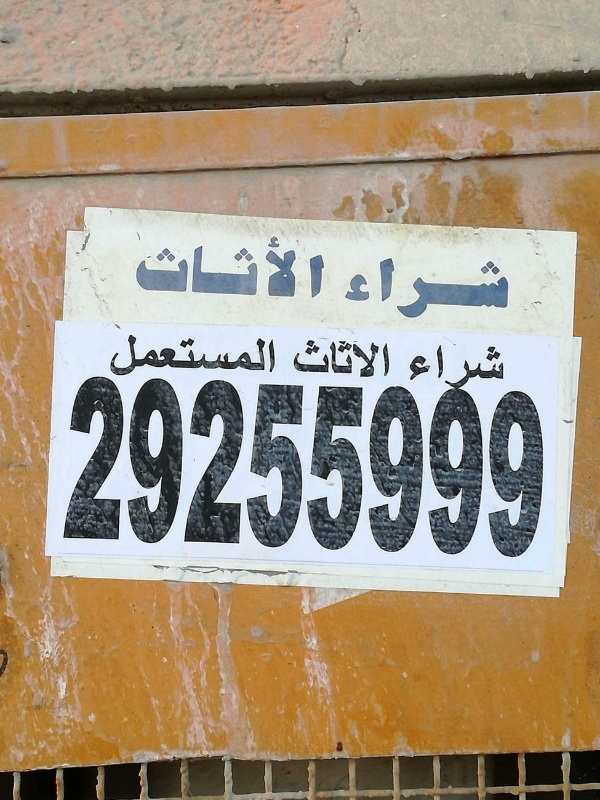text: (81, 374, 96, 565), (97, 374, 112, 565), (113, 374, 128, 565), (129, 374, 144, 565), (145, 374, 160, 565), (161, 374, 176, 565), (177, 374, 192, 565), (193, 374, 208, 565), (209, 374, 224, 565), (225, 374, 240, 565), (241, 374, 256, 565), (257, 374, 272, 565), (273, 374, 288, 565), (289, 374, 304, 565), (305, 374, 320, 565), (321, 374, 336, 565), (337, 374, 352, 565), (353, 374, 368, 565), (369, 374, 384, 565), (385, 374, 400, 565), (401, 374, 416, 565), (417, 374, 432, 565), (433, 374, 448, 565), (449, 374, 464, 565), (465, 374, 480, 565), (481, 374, 496, 565), (497, 374, 512, 565), (513, 374, 528, 565), (529, 374, 544, 565), (70, 374, 80, 565), (353, 255, 368, 322), (369, 255, 384, 322), (385, 255, 400, 322), (401, 255, 416, 322), (417, 255, 432, 322), (433, 255, 448, 322), (449, 255, 464, 322), (465, 255, 480, 322), (481, 255, 496, 322), (145, 232, 160, 299), (161, 232, 176, 299), (177, 232, 192, 299), (193, 232, 208, 299), (209, 232, 224, 299), (225, 232, 240, 299), (241, 232, 256, 299), (257, 232, 272, 299), (273, 232, 288, 299), (289, 232, 304, 299), (305, 232, 320, 299), (497, 255, 511, 322), (417, 343, 432, 393), (433, 343, 448, 393), (449, 343, 464, 393), (465, 343, 480, 393), (481, 343, 496, 393), (497, 343, 512, 393), (113, 331, 128, 379), (129, 331, 144, 379), (145, 331, 160, 379), (161, 331, 176, 379), (177, 331, 192, 379), (193, 331, 208, 379), (209, 331, 224, 379), (225, 331, 240, 379), (241, 331, 256, 379), (257, 331, 272, 379), (305, 338, 320, 381), (321, 338, 336, 381), (337, 338, 352, 381), (353, 338, 368, 381), (369, 338, 384, 381), (321, 232, 330, 299), (545, 374, 548, 565), (292, 338, 304, 381), (407, 343, 416, 393), (385, 338, 395, 381), (346, 255, 352, 322), (138, 232, 144, 299), (109, 331, 112, 379), (273, 331, 276, 379)
